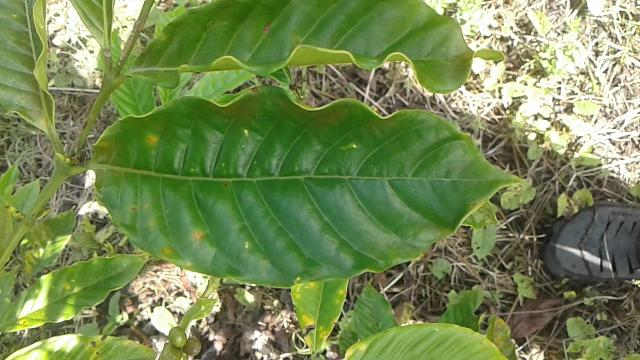rust_level_1: (88, 81, 534, 292)
